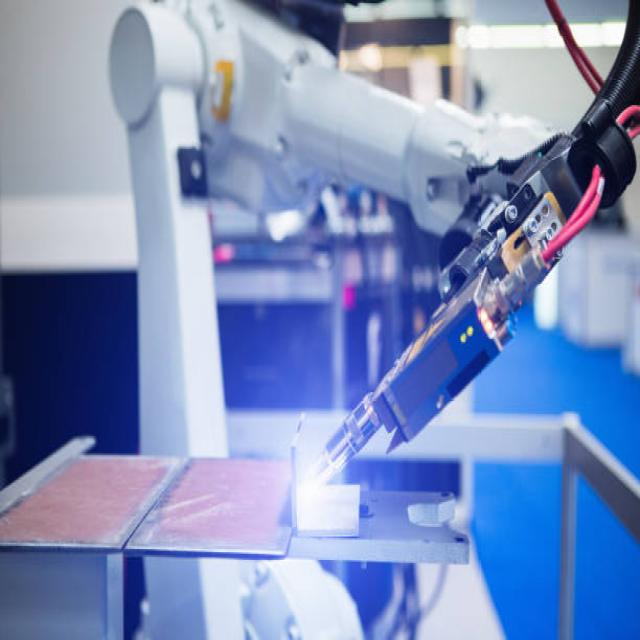Robotic-arm: (92, 0, 593, 458)
